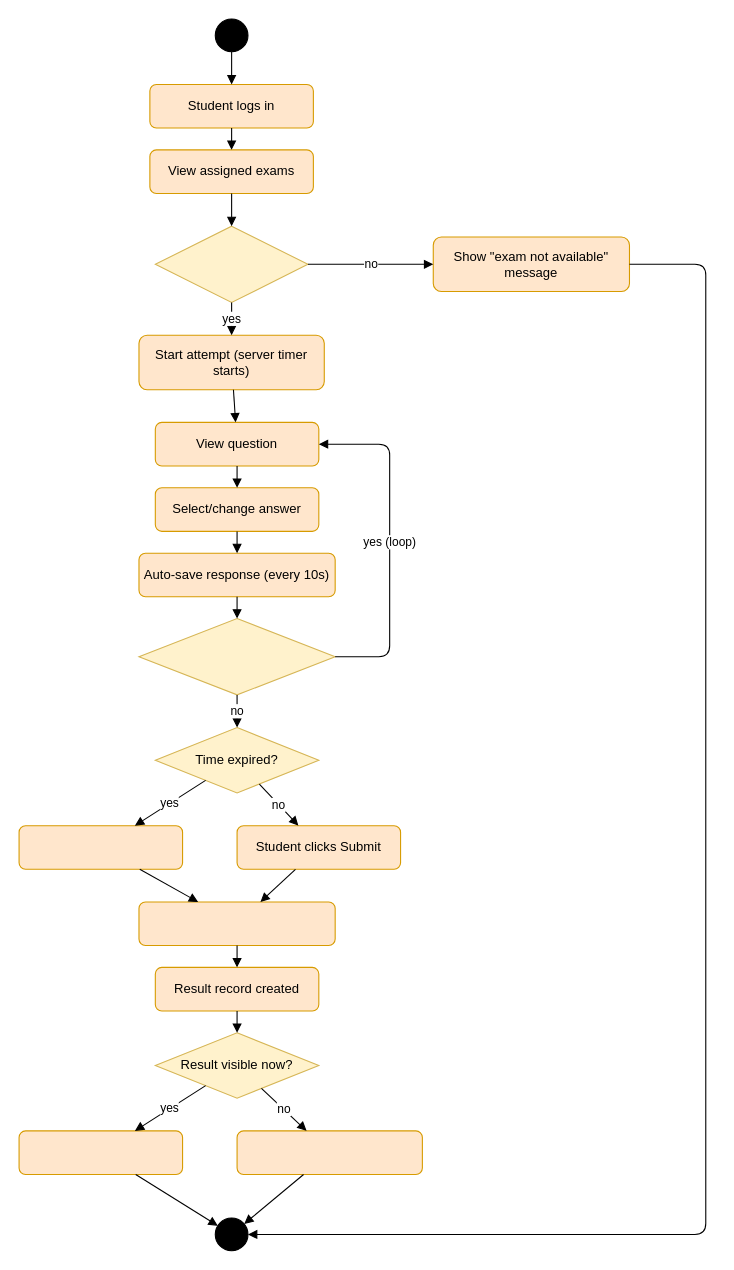
Image size: 734x1270. Some labels were removed from this diagram. The box of each missing label's shape, as (x1, y1, x2, y2) in pixels:
Auto-Evaluator scores attempt: (138, 901, 335, 946)
Exam within scheduled window?: (154, 225, 308, 302)
More questions and time remaining?: (138, 617, 335, 695)
Student notified later when visible: (236, 1130, 422, 1174)
Student views result: (18, 1130, 183, 1174)
System auto-submits: (18, 825, 183, 869)
